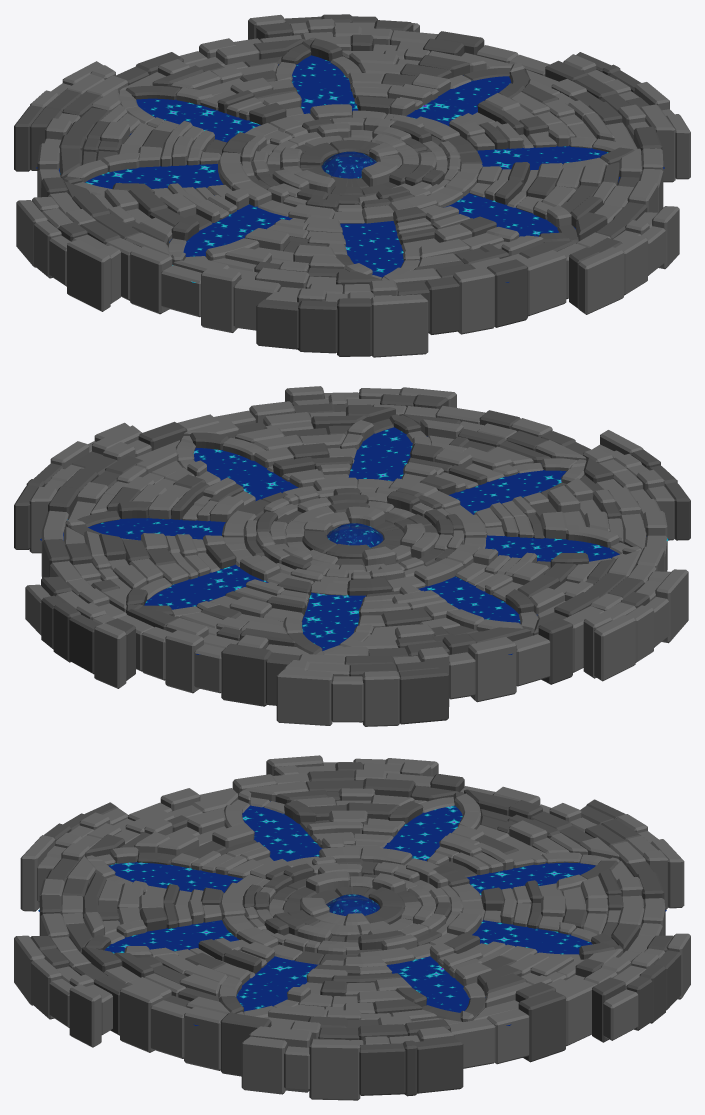
The model's file is floor forest stars.fbx.
3 renders of one model, top to bottom at view 1: azimuth 30°, elevation 25°; view 2: azimuth 150°, elevation 25°; view 3: azimuth 270°, elevation 25°, orthographic.
Parts seen in each view (by area): view 1: floor stars; view 2: floor stars; view 3: floor stars.
Boxes of the visible parts, x1,y1,x2,y2 form: floor stars: [14, 14, 690, 357]; floor stars: [14, 386, 690, 726]; floor stars: [14, 755, 690, 1100].
Bounding box in the file's own units: 3006 × 269 × 2927.
